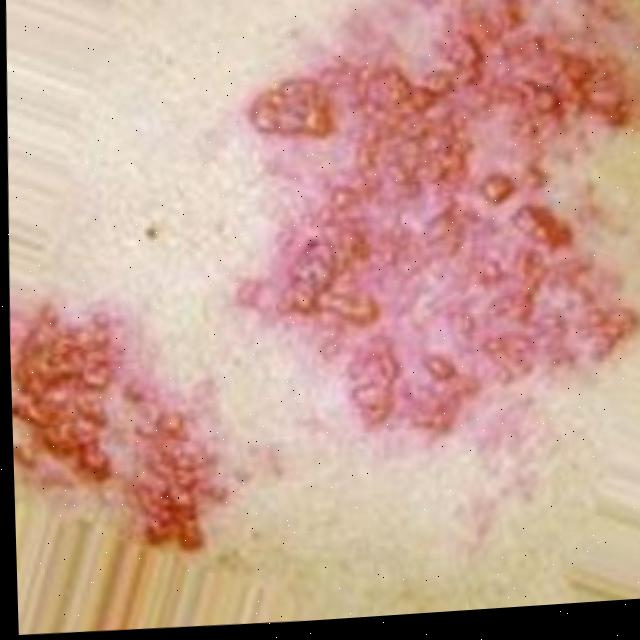Shingles: (212, 0, 640, 458), (9, 291, 229, 577)
